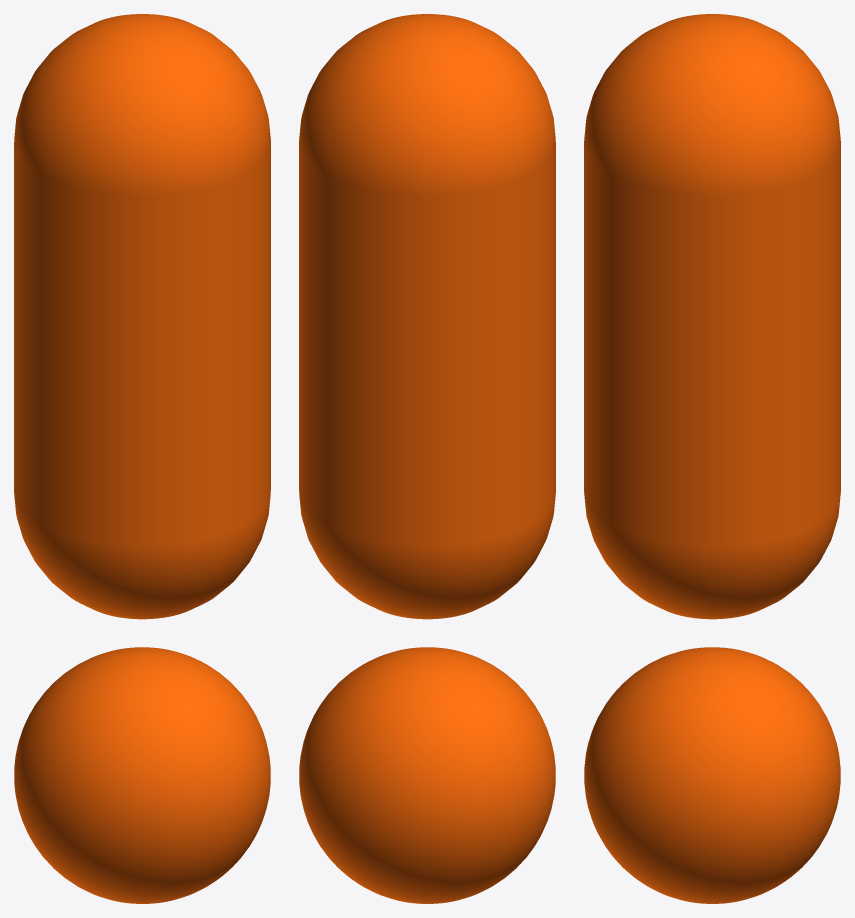
File: exclamation.glb
3 views of the same model, side by side, from view 1: azimuth 30°, elevation 25°; view 2: azimuth 150°, elevation 25°; view 3: azimuth 270°, elevation 25° (orthographic).
Parts seen in each view (by area): view 1: Stem, Base; view 2: Stem, Base; view 3: Stem, Base.
Boxes of the visible parts, x1,y1,x2,y2 form: Stem: (14,14,270,619); Base: (14,647,270,903); Stem: (299,14,555,619); Base: (299,647,555,903); Stem: (584,14,840,619); Base: (584,647,840,903).
Bounding box in the file's own units: 1 × 3.72 × 1.
